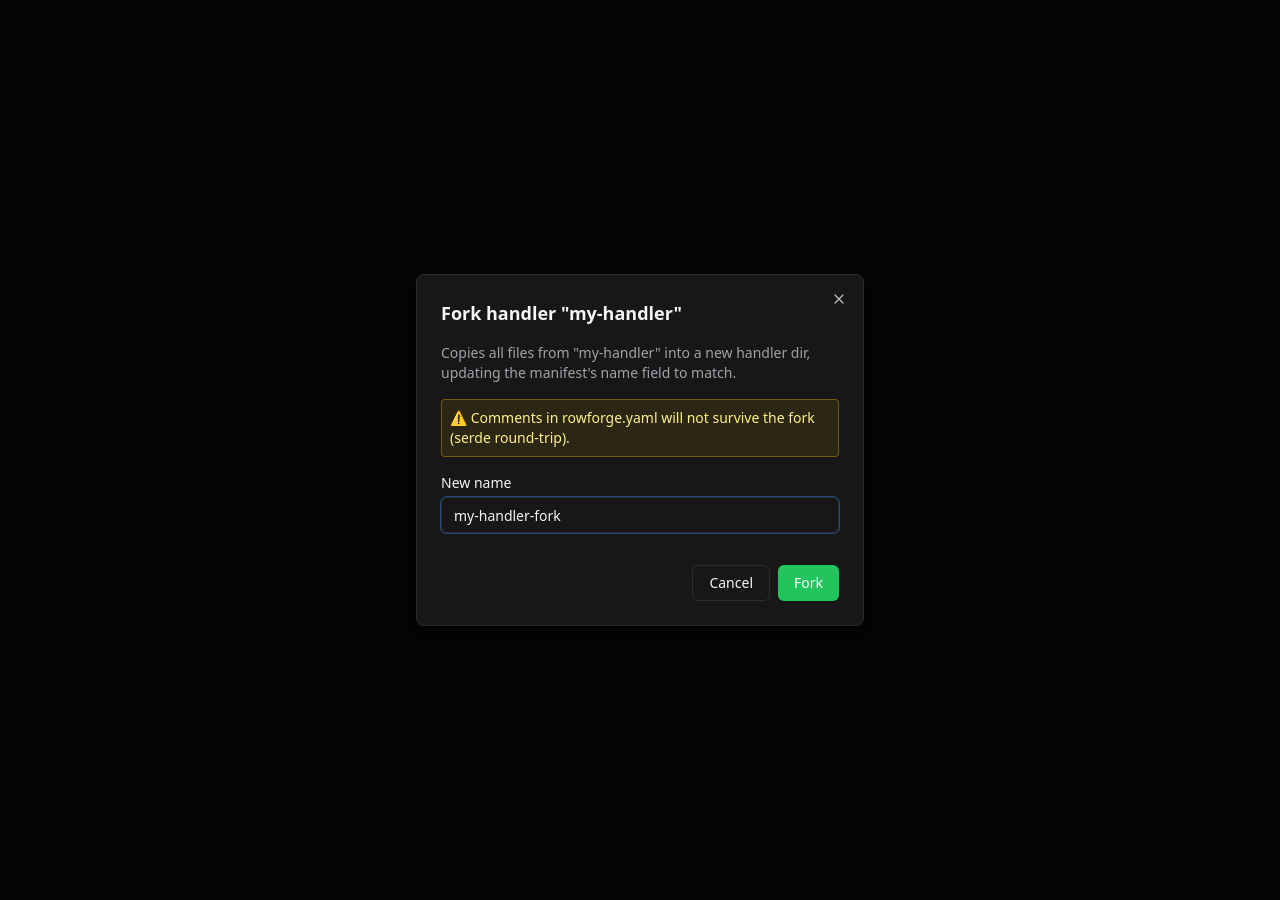
Test: ForkHandlerDialog › shows inline error banner on HandlerExists and keeps dialog open
The width and height of the screenshot is (1280, 900).
What coordinates should you click on to do the following:
click the button "Fork"
I would click on:
 (808, 583)
Its box is [778, 565, 839, 601].
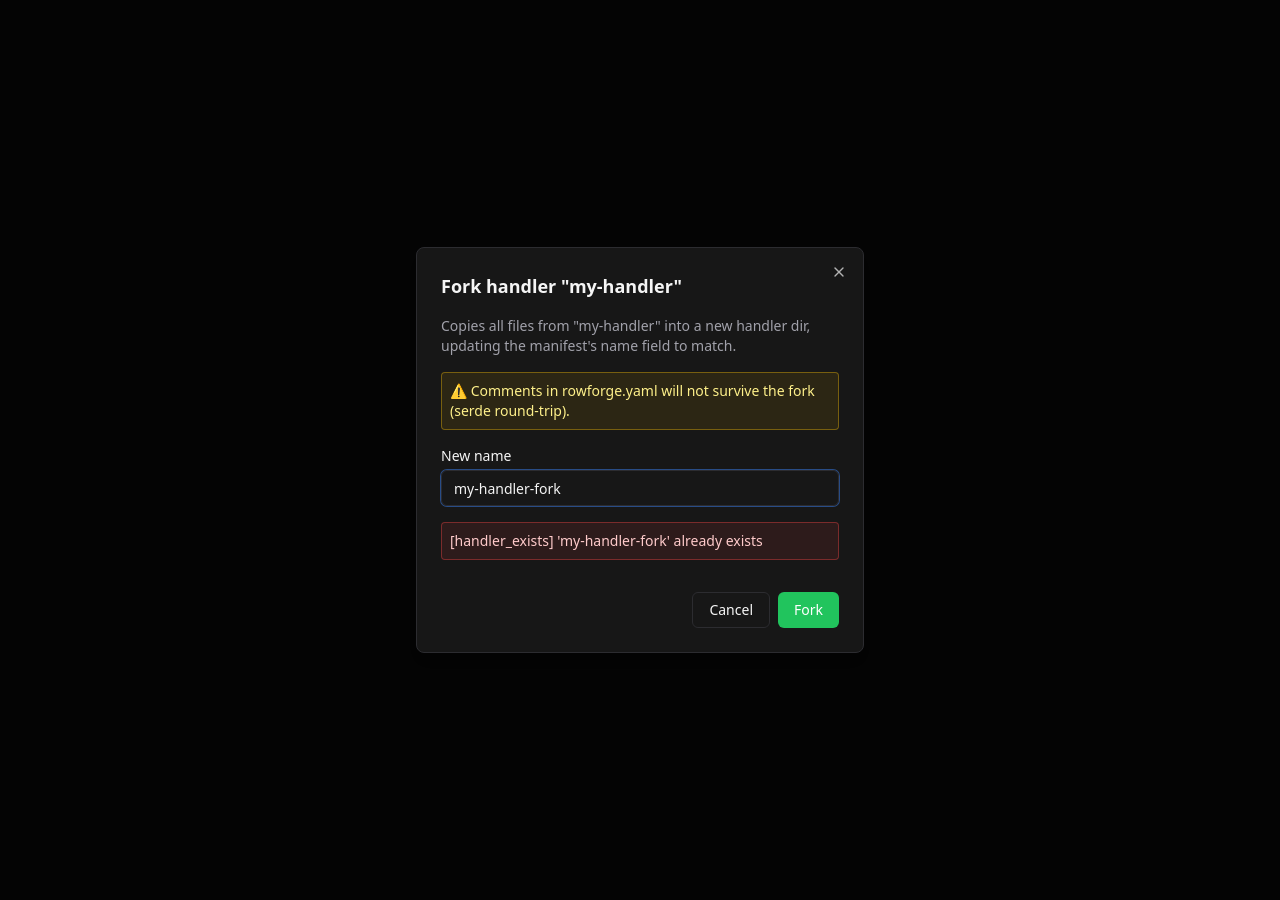
Expected: the text "[handler_exists] 'my-handler-fork' already exists" is shown, [441, 522, 839, 560]
